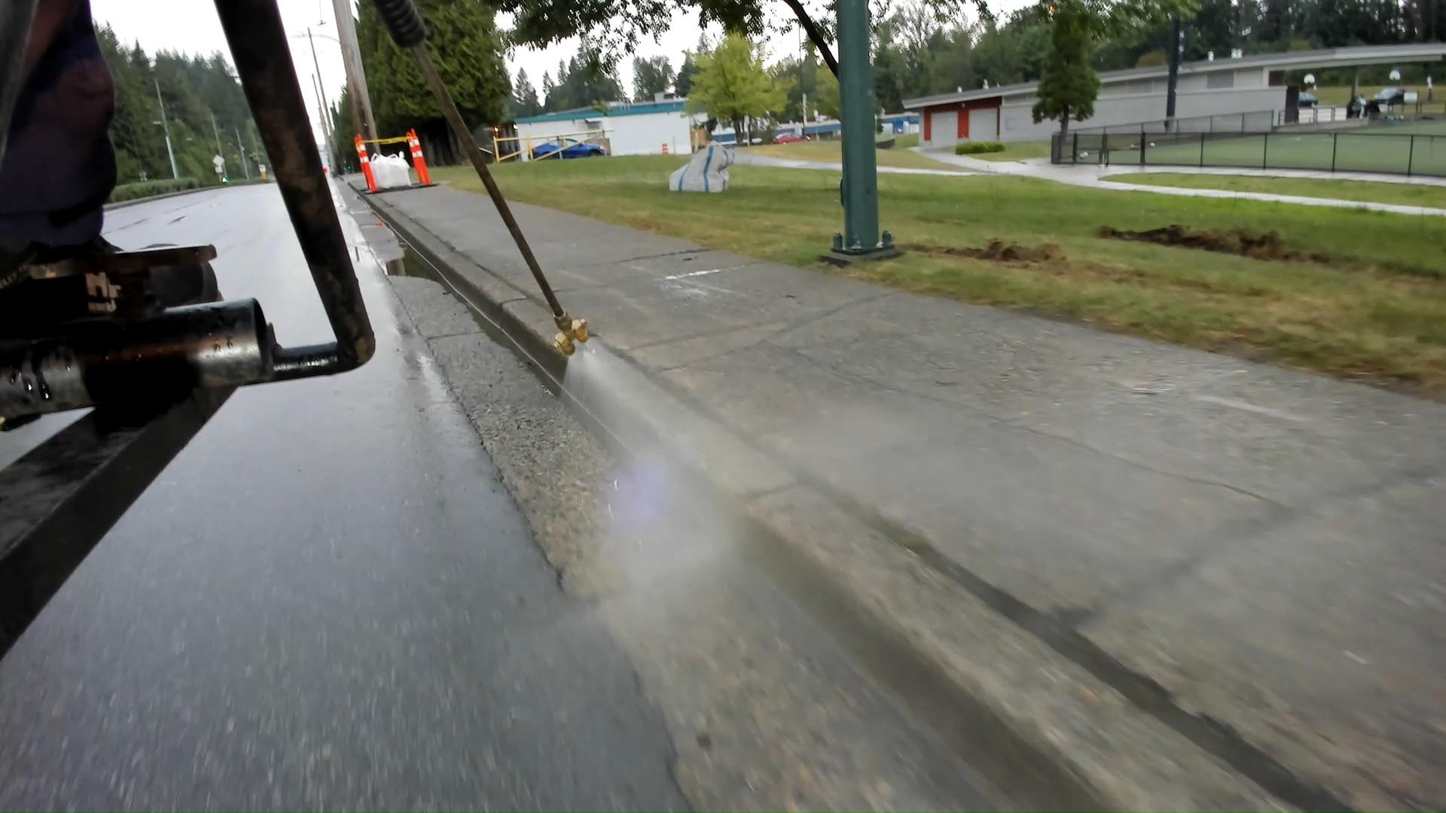weeds: (888, 520, 935, 556), (855, 496, 888, 530)
